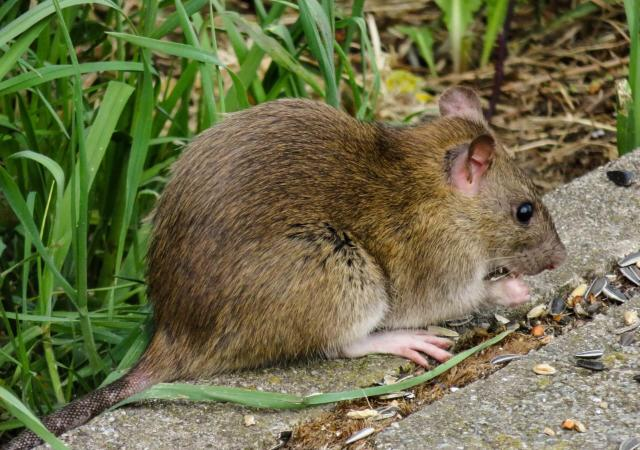rat: (134, 77, 576, 380)
